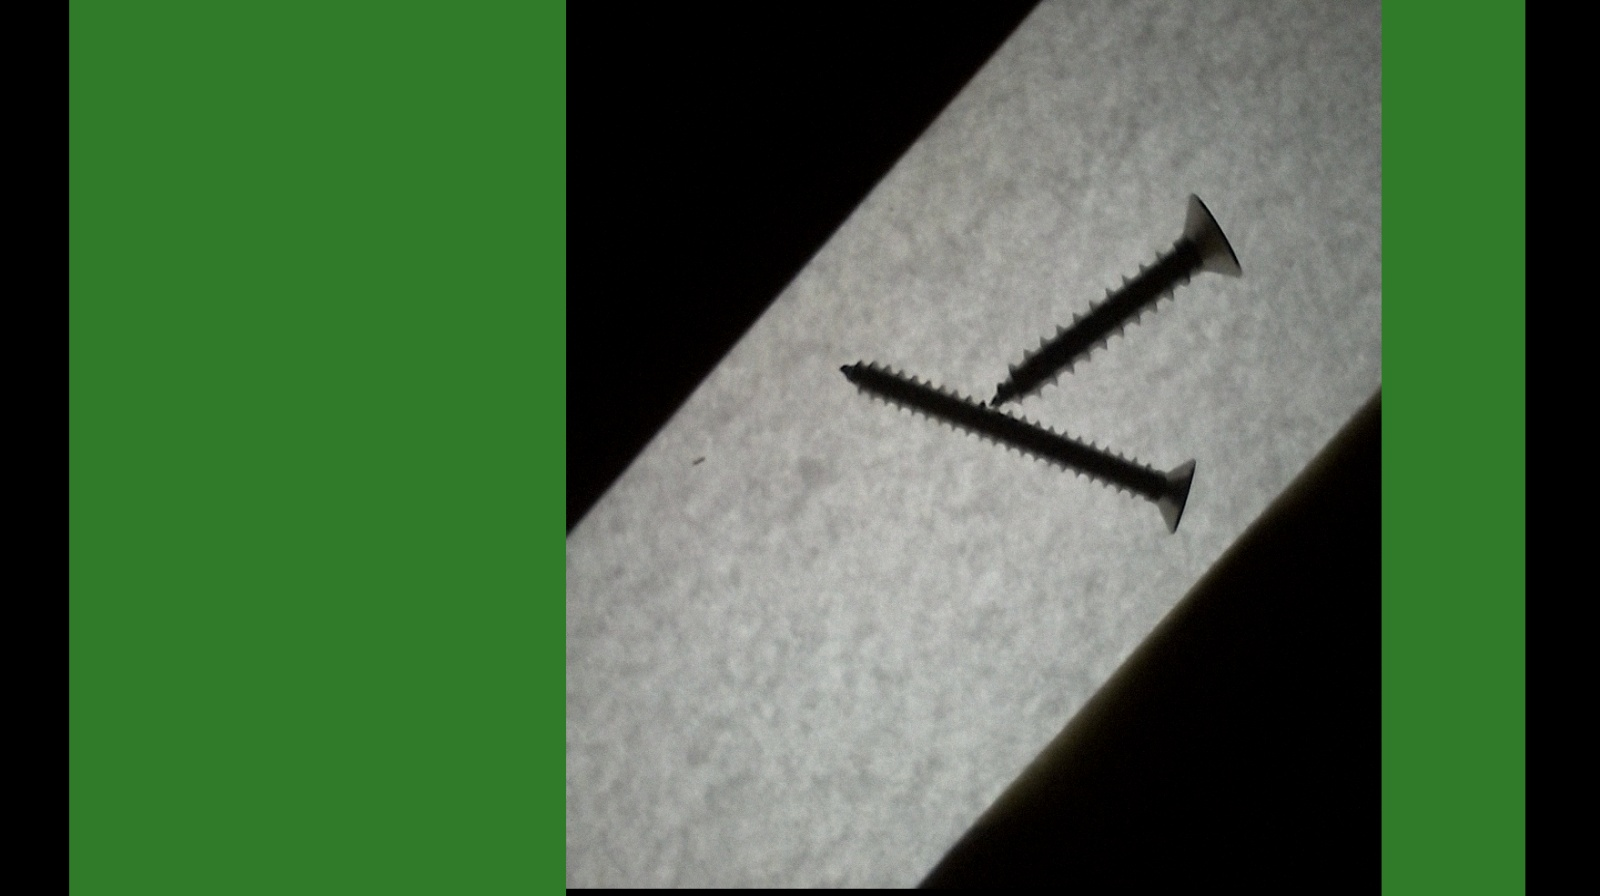S001: (988, 190, 1246, 407)
S002: (838, 357, 1201, 535)
